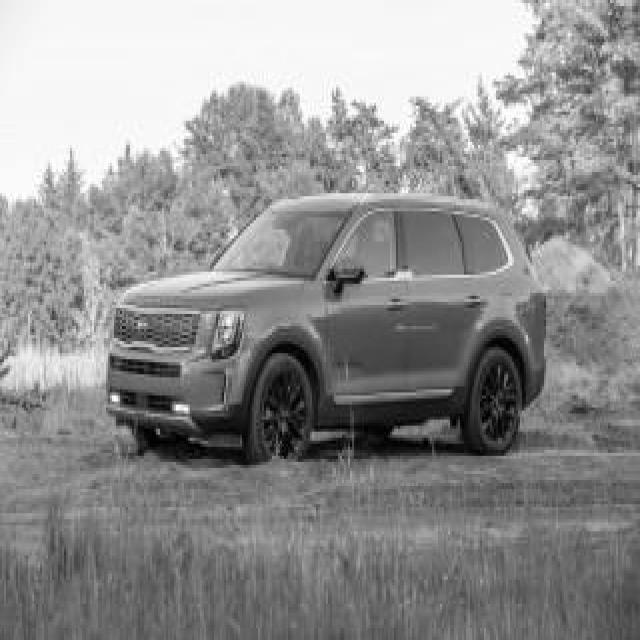Car: (108, 194, 545, 458)
